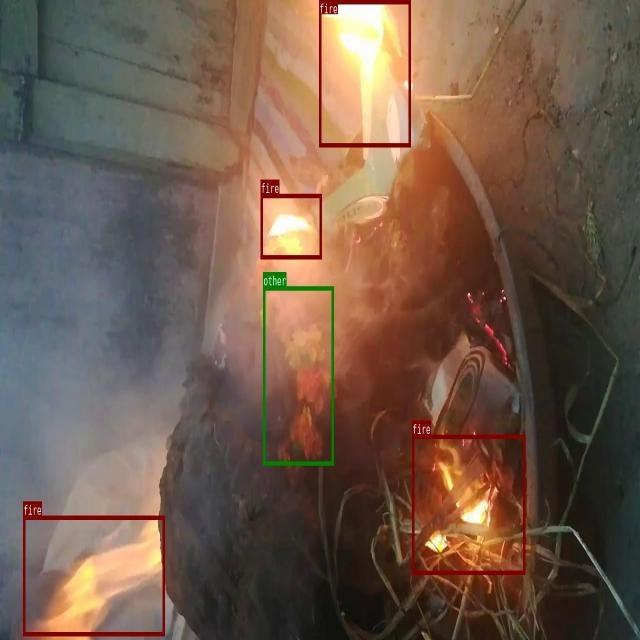fire: (23, 515, 164, 635), (412, 434, 525, 574), (319, 0, 410, 147), (260, 194, 321, 259)
